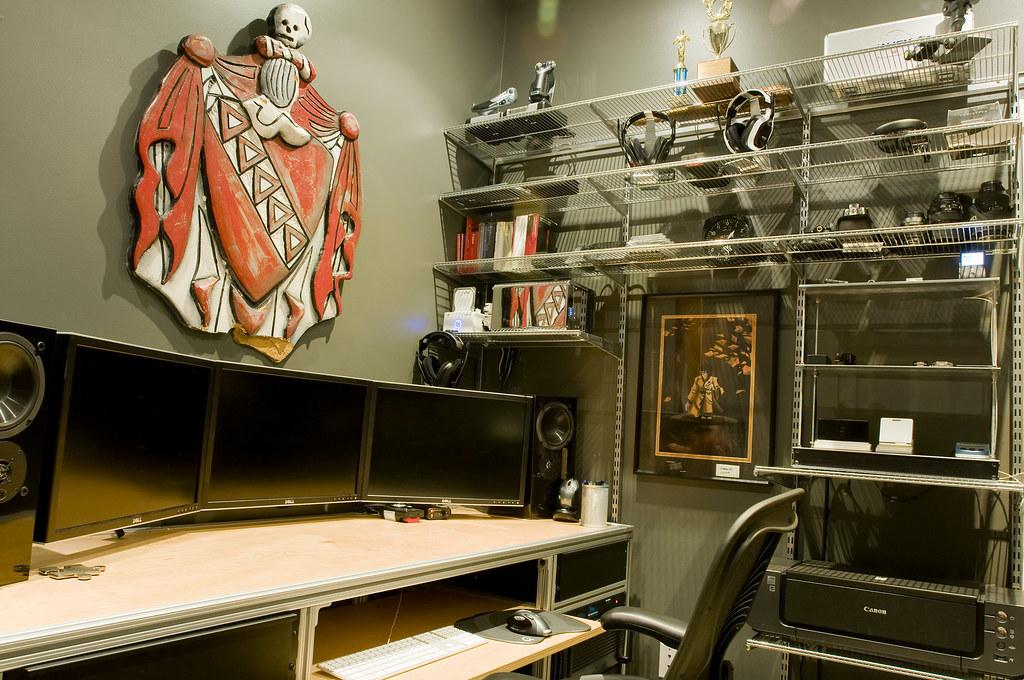computer: (36, 331, 216, 544), (197, 361, 372, 525), (360, 381, 535, 521)
